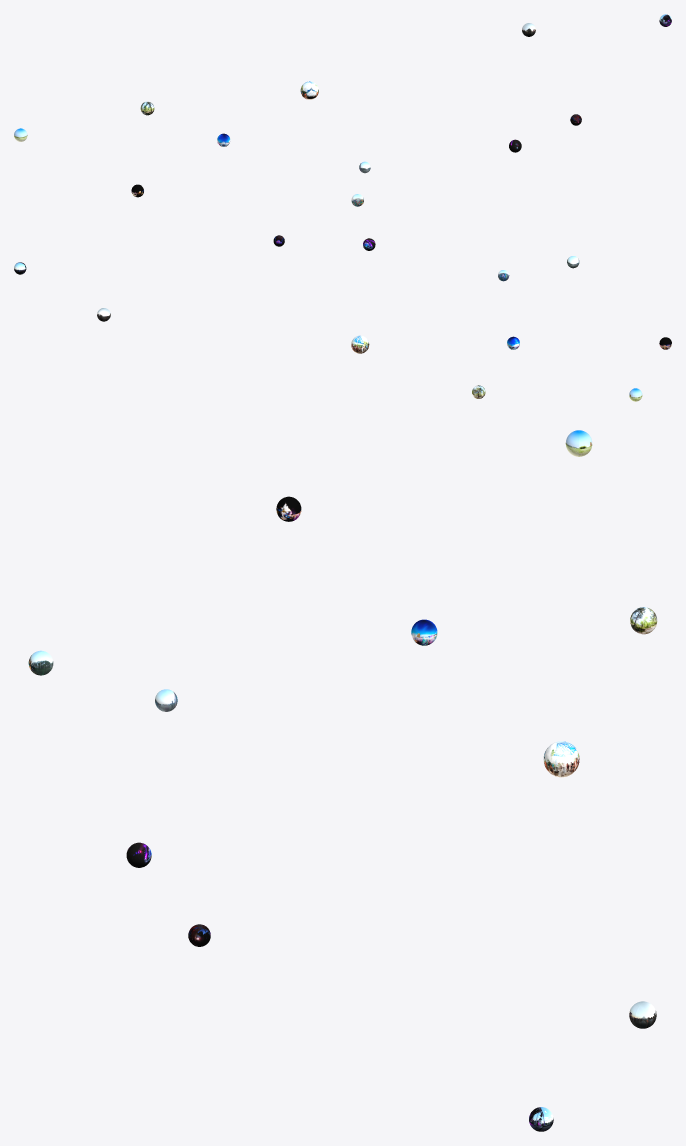
Rendered from sam_domes_3_for_stream.glb.
The picture shows the model from 3 angles, top to bottom: view 1: azimuth 30°, elevation 25°; view 2: azimuth 150°, elevation 25°; view 3: azimuth 270°, elevation 25°; orthographic projection. The views are drawn at different scales.
Parts seen in each view (by area): view 1: no part large enough to name; view 2: S4-1; view 3: S4-1.
Boxes of the visible parts, x1,y1,x2,y2 form: S4-1: (351,335,369,353); S4-1: (543,741,579,777).
Bounding box in the file's own units: 79.12 × 5.5 × 33.86.
Materials: 22 (22 with a texture image).
